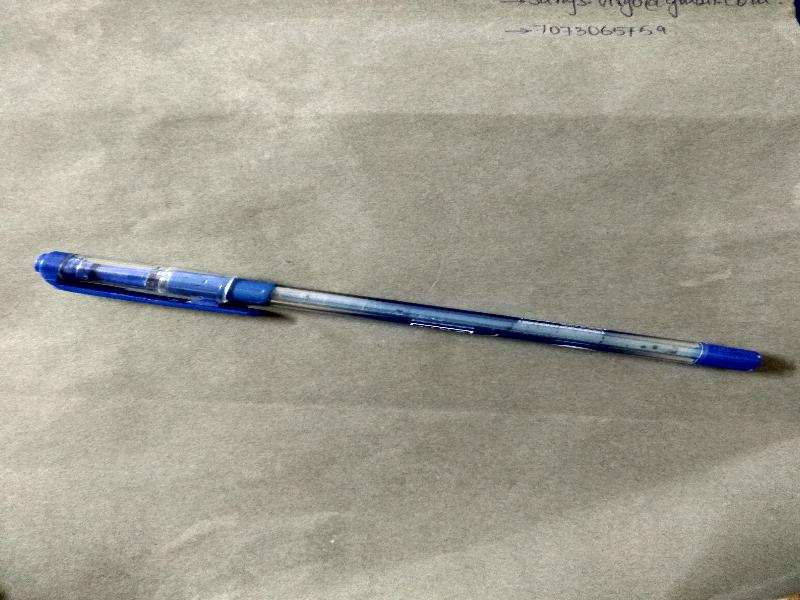pen: (30, 245, 778, 390)
